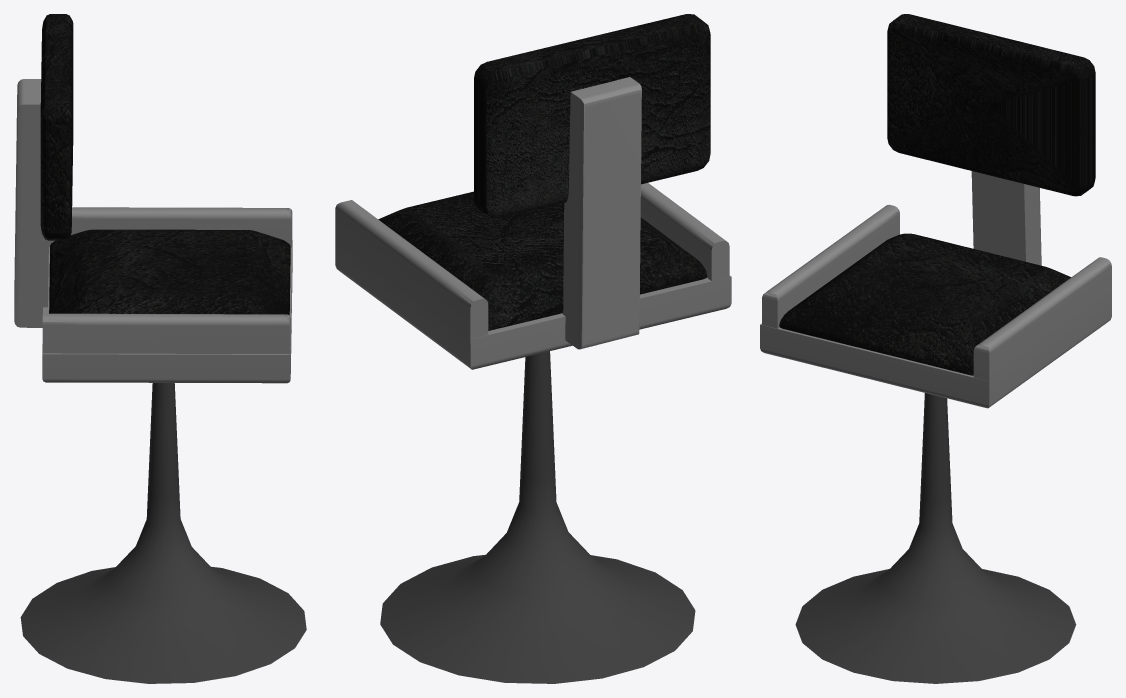
File: Chair2.fbx
3 renders of one model, left to right at view 1: azimuth 30°, elevation 25°; view 2: azimuth 150°, elevation 25°; view 3: azimuth 270°, elevation 25°, orthographic. The views are drawn at different scales.
Visible parts, largest first — view 1: polySurface6; view 2: polySurface6; view 3: polySurface6.
Part boxes in pixels (bbox=[...]): polySurface6: bbox=[14, 14, 306, 683]; polySurface6: bbox=[335, 14, 731, 683]; polySurface6: bbox=[760, 14, 1111, 683].
Bounding box in the file's own units: 1.99 × 3.51 × 2.04.
